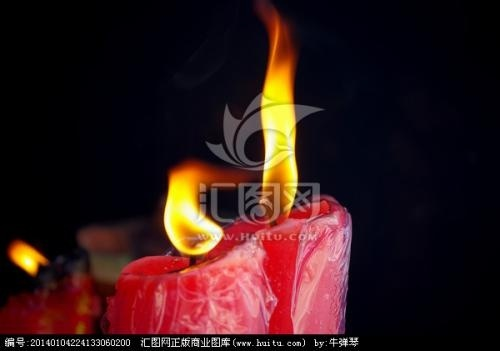fire: (260, 6, 299, 202), (161, 160, 223, 254), (7, 237, 47, 274)
